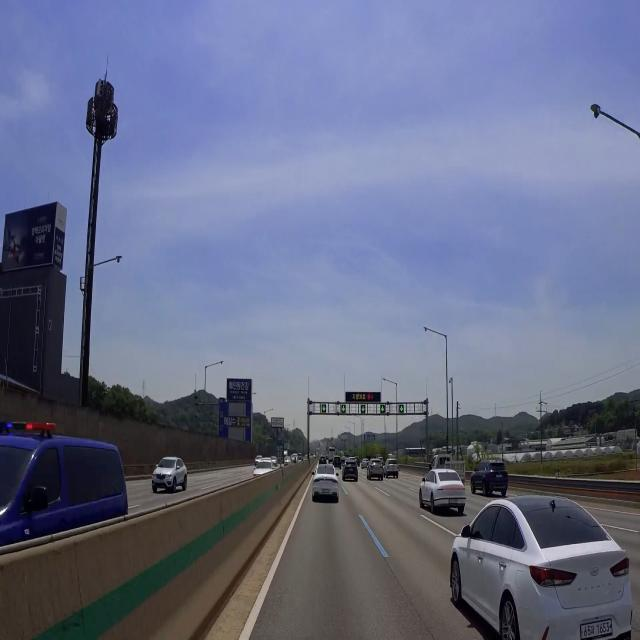car: (578, 610, 618, 638), (319, 483, 333, 499), (493, 469, 509, 483), (154, 477, 167, 493), (447, 498, 462, 510), (347, 465, 358, 477)
